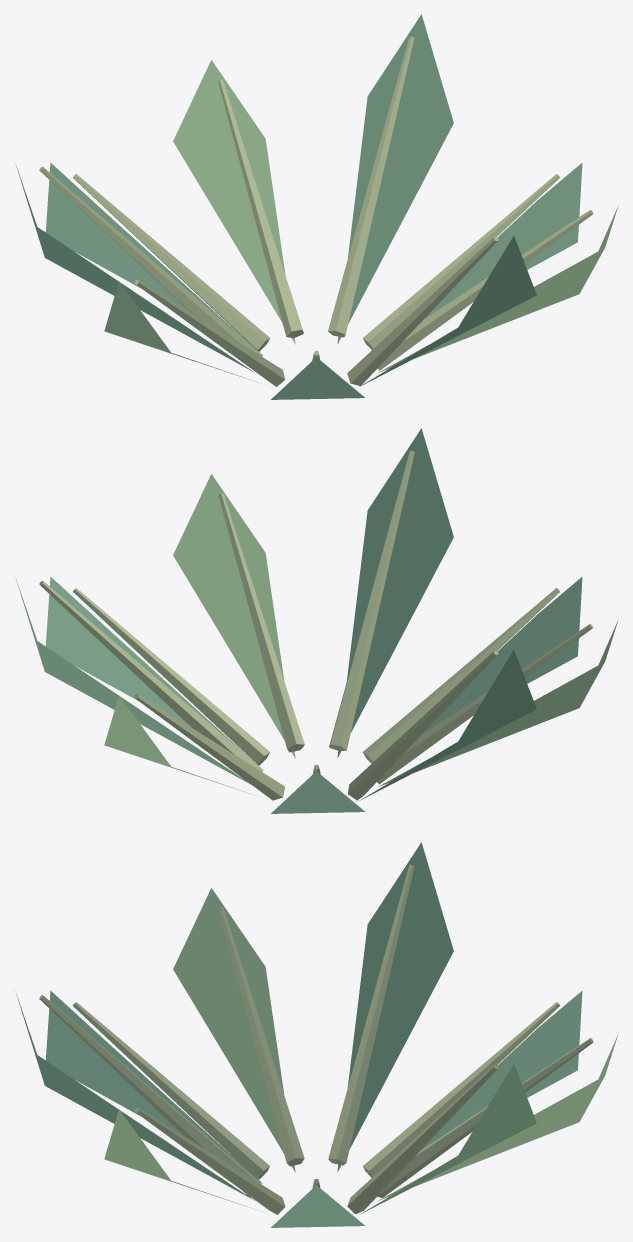
File: find_marsh_herb.glb
3 renders of one model, top to bottom at view 1: azimuth 30°, elevation 25°; view 2: azimuth 150°, elevation 25°; view 3: azimuth 270°, elevation 25°, orthographic.
Visible parts, largest first — view 1: Nebelminze · türkise Blattspitzen; view 2: Nebelminze · türkise Blattspitzen; view 3: Nebelminze · türkise Blattspitzen.
Part boxes in pixels (<box>): Nebelminze · türkise Blattspitzen: <box>16,14,618,399</box>; Nebelminze · türkise Blattspitzen: <box>16,428,618,813</box>; Nebelminze · türkise Blattspitzen: <box>16,842,618,1227</box>.
Bounding box in the file's own units: 1.03 × 0.4441 × 1.04.
